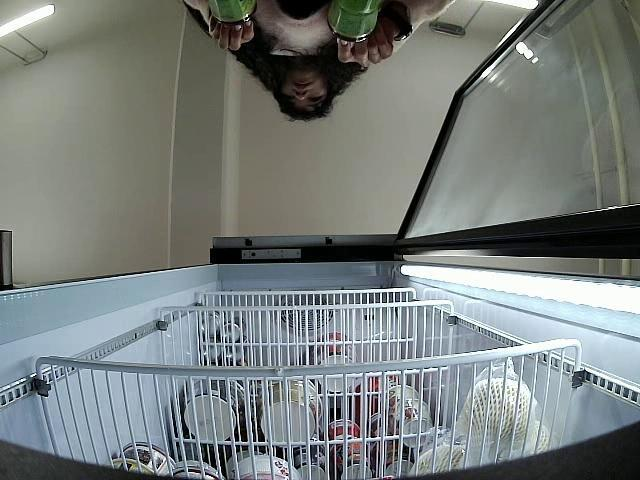19_17cha: (326, 0, 384, 43), (206, 0, 256, 28)
